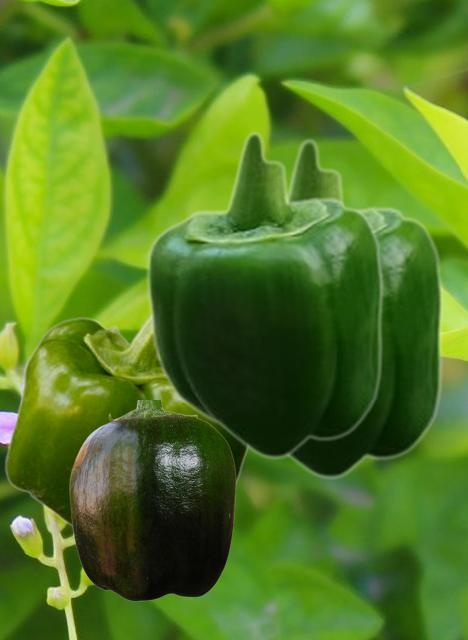bell_pepper: (145, 130, 383, 460), (287, 137, 443, 480), (4, 314, 249, 528), (69, 400, 235, 600)
